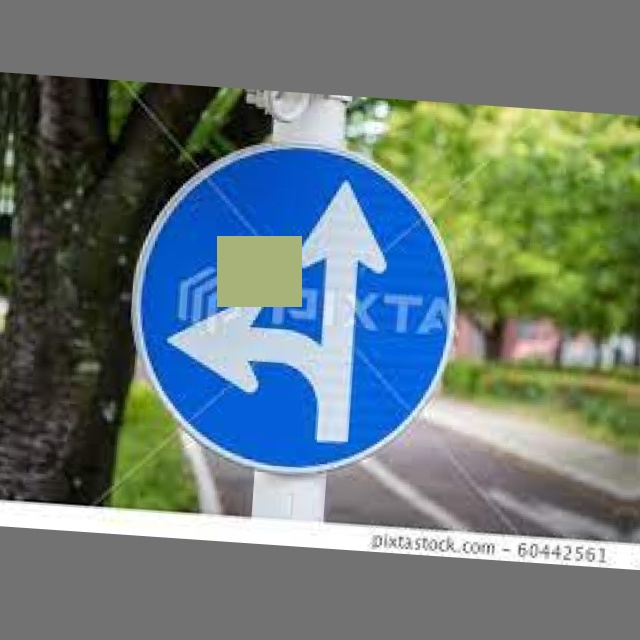Compulsory_Ahead_or_Turn_Left: (122, 141, 469, 470)
